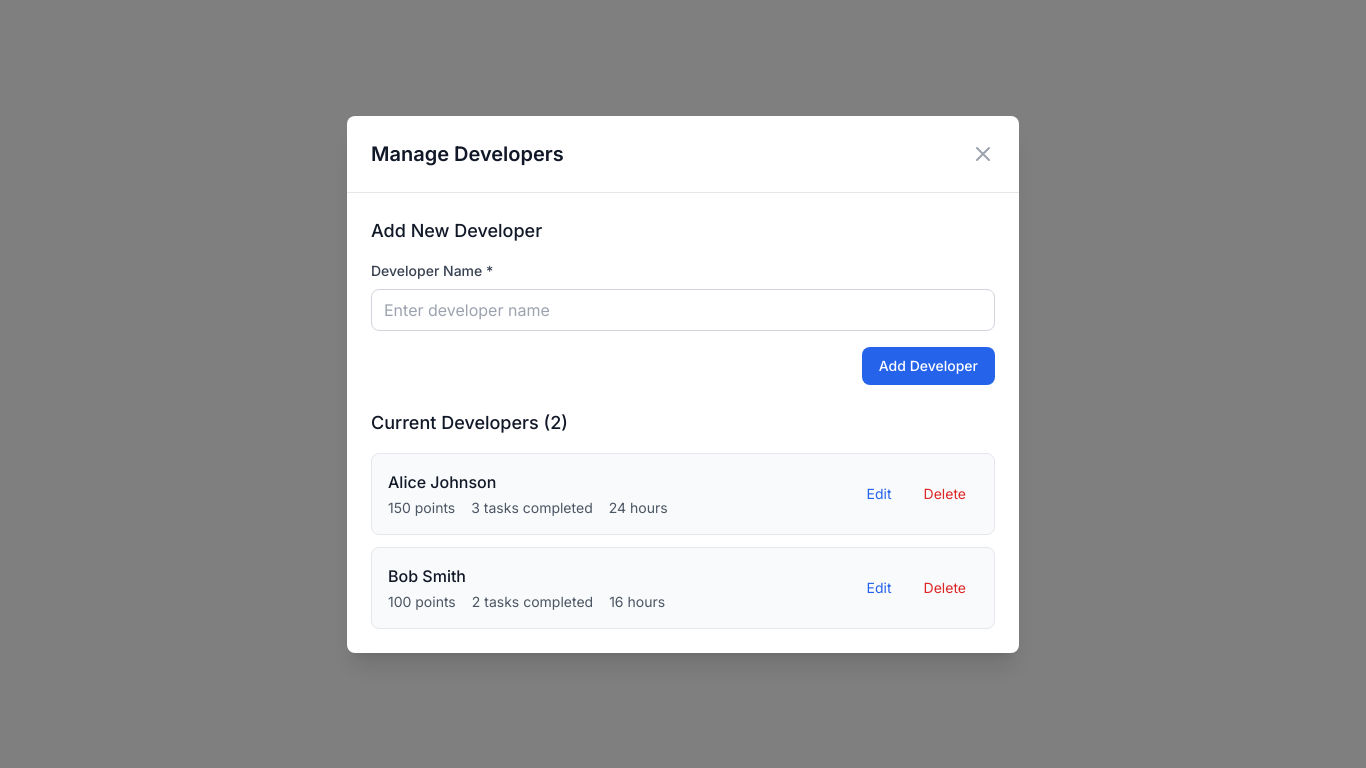
DeveloperManagementModal › Adding Developers › should show validation error for duplicate name
This screenshot has width=1366, height=768.
Type "Alice Johnson" into the field labelled "Developer Name *" at point(683, 310), box [371, 288, 995, 330]
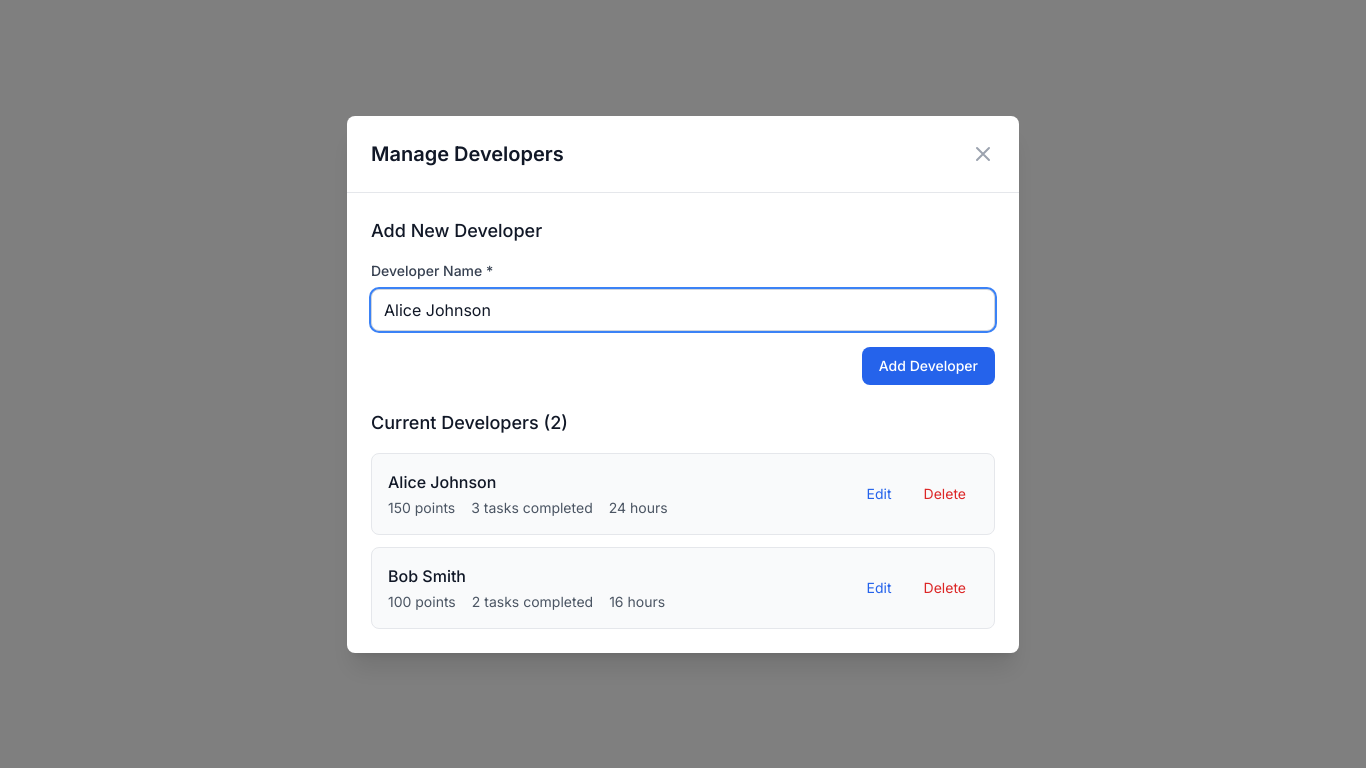
Click the button "Add Developer" at point(928, 366), box [862, 346, 995, 384]
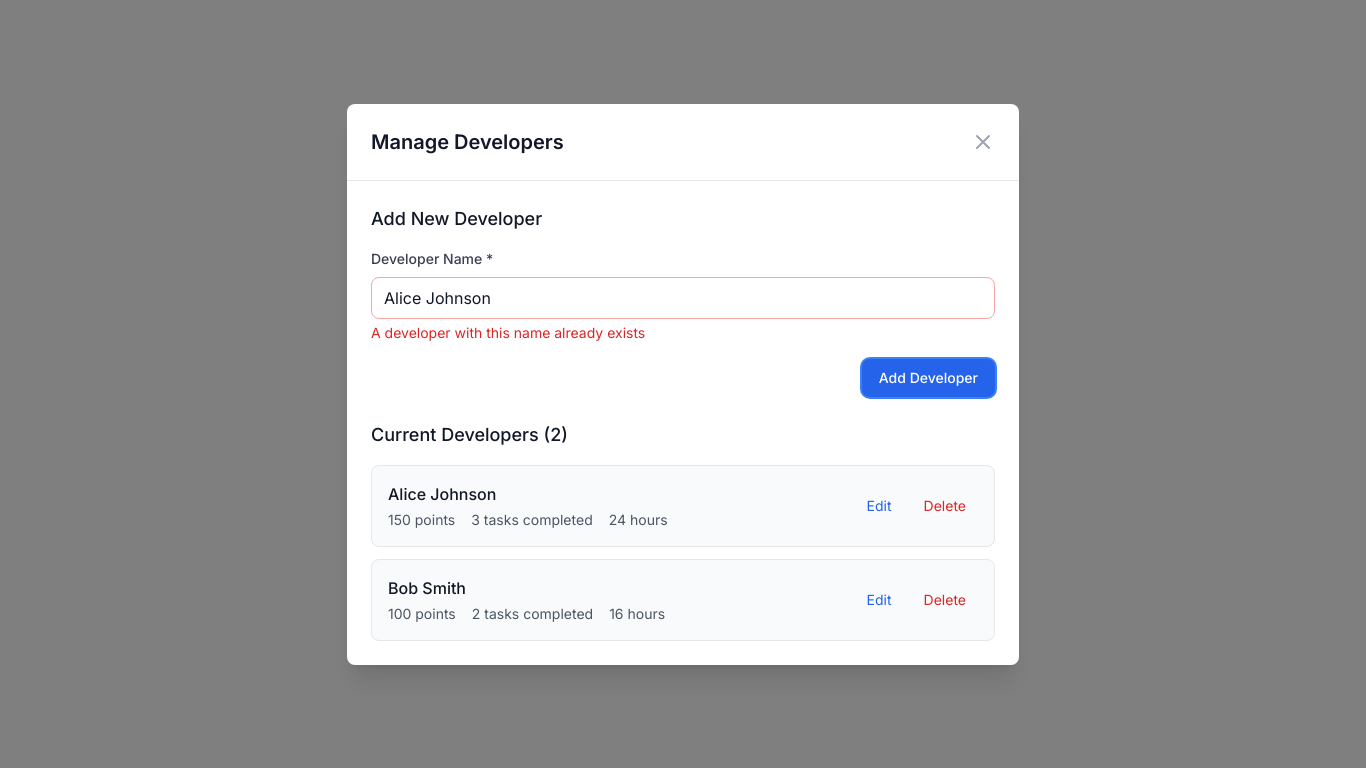
Now the text "A developer with this name already exists" is shown, box [371, 324, 645, 340]
